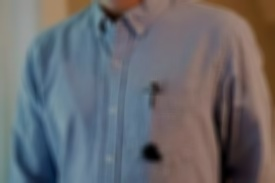ink: (143, 144, 162, 161)
